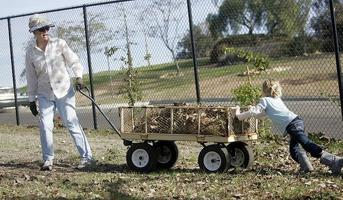person: (233, 79, 342, 176)
